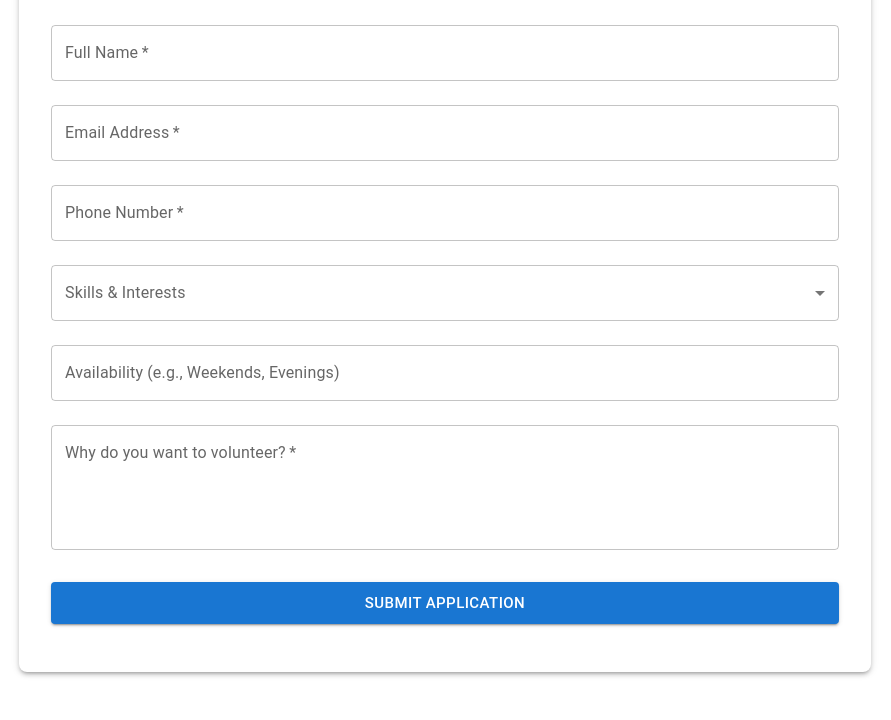
VolunteerForm › shows validation errors when submitting empty form
(page scrolled)
Click the button "Submit Application".
click(445, 603)  # box [51,582,839,624]
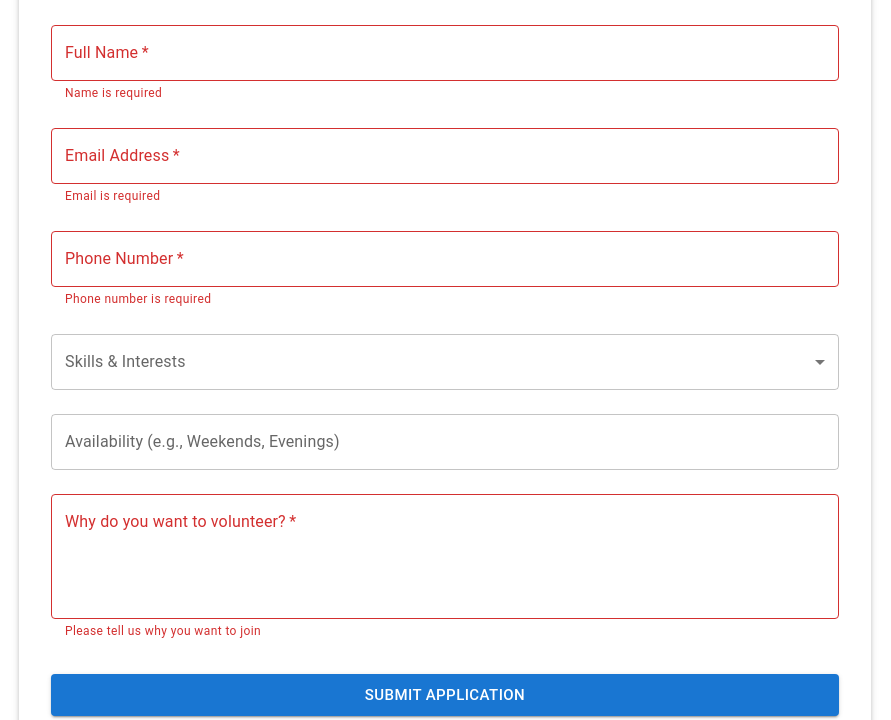
Expected: the text "Name is required" is shown, [65,86,162,100]
Expected: the text "Email is required" is shown, [65,189,160,203]
